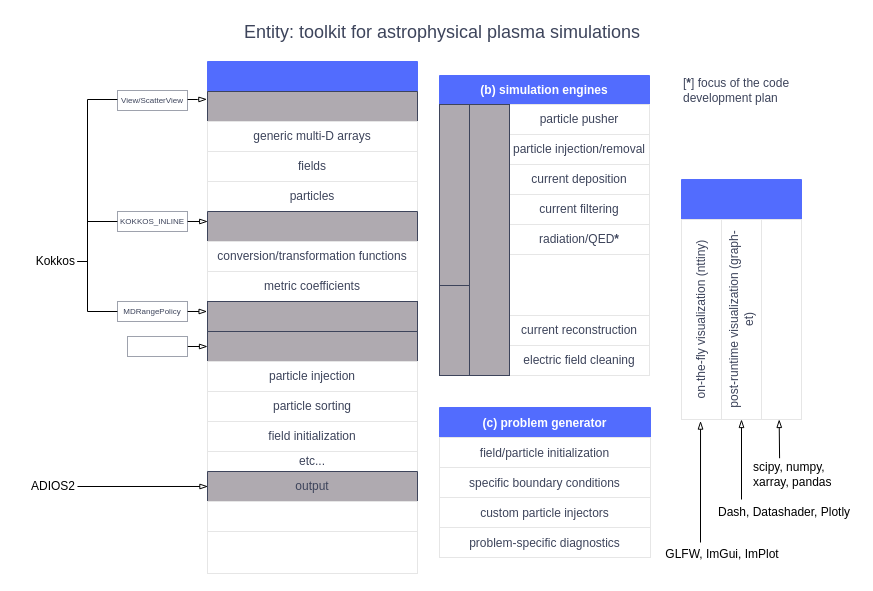
The diagram is 873 pixels wide and 591 high, and some of its shapes have lost their labels. The box of each missing label's shape, as (x1, y1, x2, y2) in pixels:
(a) code framework: (206, 60, 418, 574)
(d) visualization & post-processing tools: (680, 178, 802, 420)
advanced post-processing tools (with python): (760, 218, 802, 420)
algorithm templates: (206, 330, 418, 472)
C++ functors: (126, 336, 188, 356)
cartesian / curvilinear / general relativistic & cubed-sphere *: (468, 104, 510, 376)
data containers: (206, 90, 418, 212)
data output for long-term storage & post-processing: (206, 530, 418, 574)
diagnostics and logs: (206, 500, 418, 532)
field solver: (508, 254, 650, 316)
force-free MHD: (438, 284, 470, 376)
geometry: (206, 210, 418, 302)
loop execution policies: (206, 300, 418, 332)
particle-in-cell: (438, 104, 470, 286)
